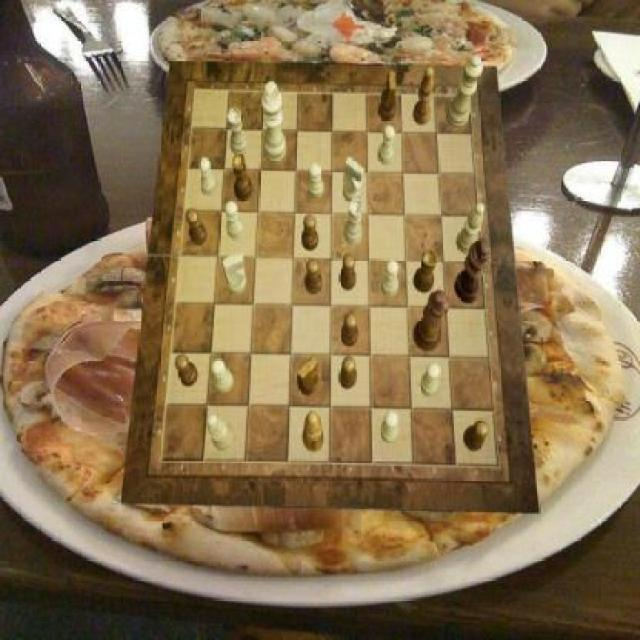bishop: (414, 68, 434, 126), (301, 411, 324, 452)
black-bishop: (455, 237, 491, 303)
black-king: (297, 357, 319, 397), (379, 70, 396, 121)
black-knight: (465, 420, 489, 452), (188, 209, 208, 247), (176, 354, 198, 388), (338, 357, 358, 391), (340, 252, 357, 290), (303, 216, 320, 252), (342, 312, 359, 347), (306, 259, 323, 293)
black-pawn: (414, 289, 451, 352)
black-queen: (414, 250, 438, 294), (232, 154, 253, 203)
black-rook: (457, 203, 486, 254), (208, 412, 235, 450)
white-bishop: (263, 82, 288, 163)
white-king: (223, 252, 247, 295), (343, 157, 365, 202)
white-knight: (212, 359, 235, 393), (224, 202, 243, 240), (420, 362, 440, 396), (379, 126, 396, 166), (382, 260, 399, 298), (199, 157, 216, 195), (382, 410, 399, 444), (308, 164, 324, 200)
white-pawn: (446, 56, 483, 130)
white-queen: (228, 109, 248, 157), (344, 198, 364, 244)
